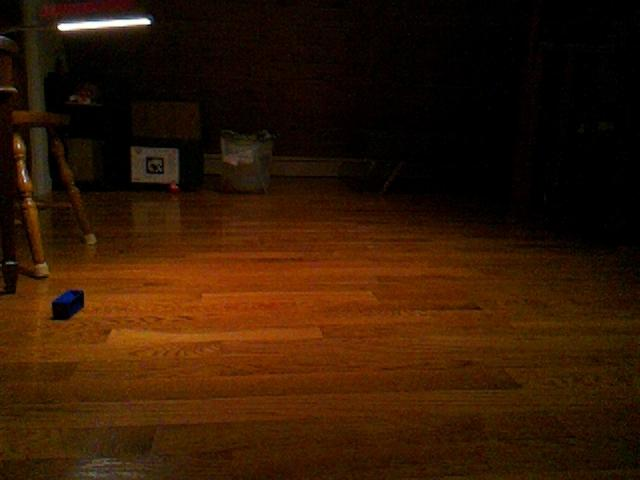blue: (51, 287, 86, 321)
